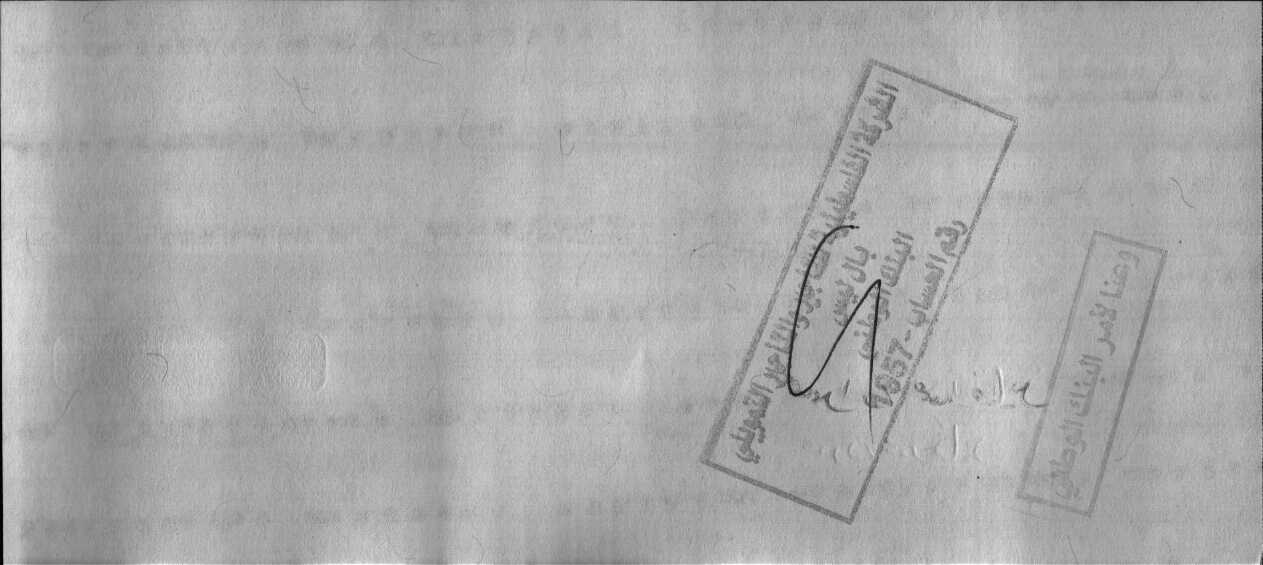stamp: (692, 54, 1022, 529), (1012, 227, 1171, 526)
